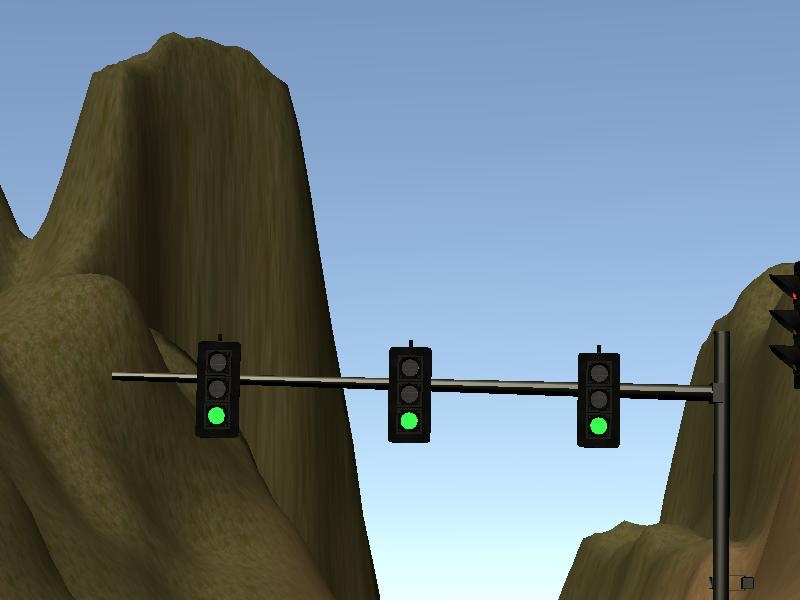green: (572, 349, 624, 446), (386, 343, 433, 443), (195, 341, 236, 440)
